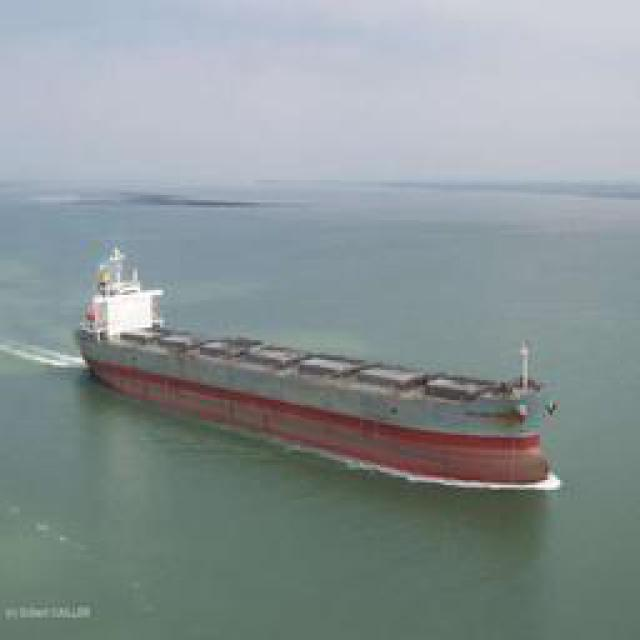Ship: (83, 248, 568, 496)
